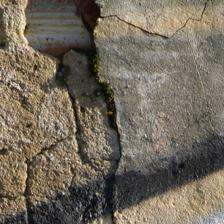Crack: (0, 114, 90, 200), (0, 56, 63, 166), (92, 9, 126, 65), (83, 45, 128, 84)
